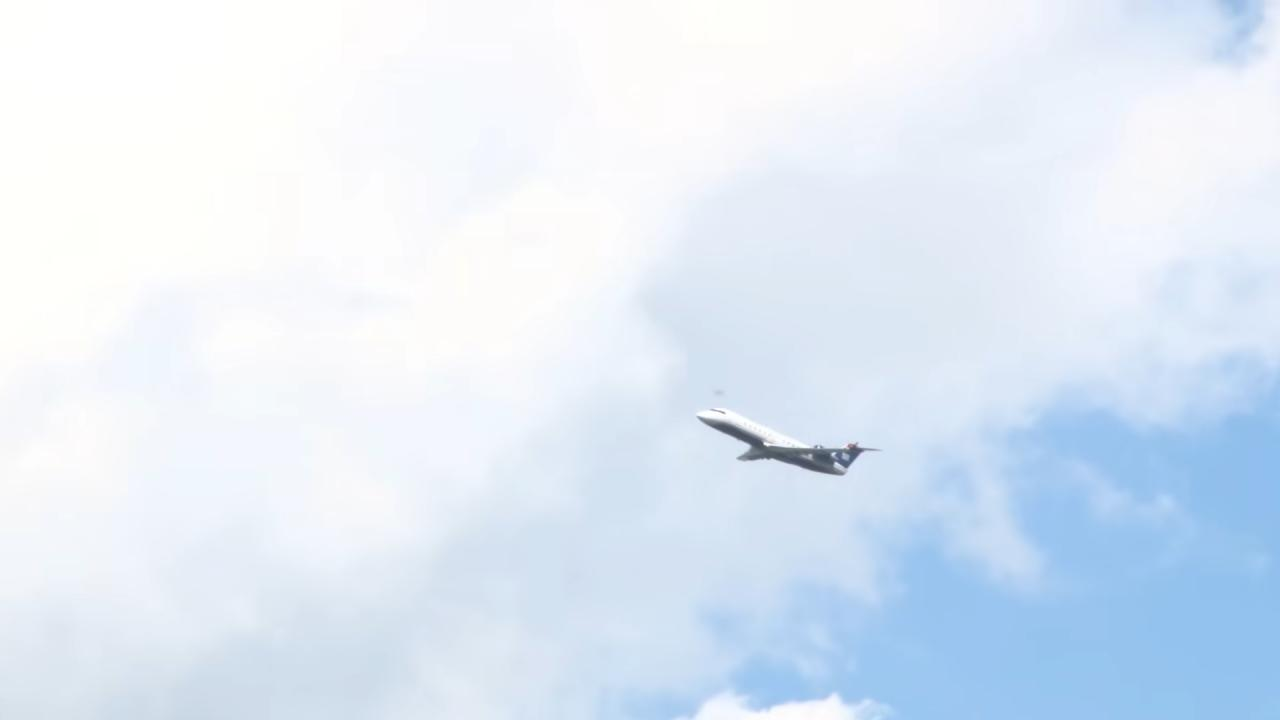Airplane: (682, 398, 888, 487)
